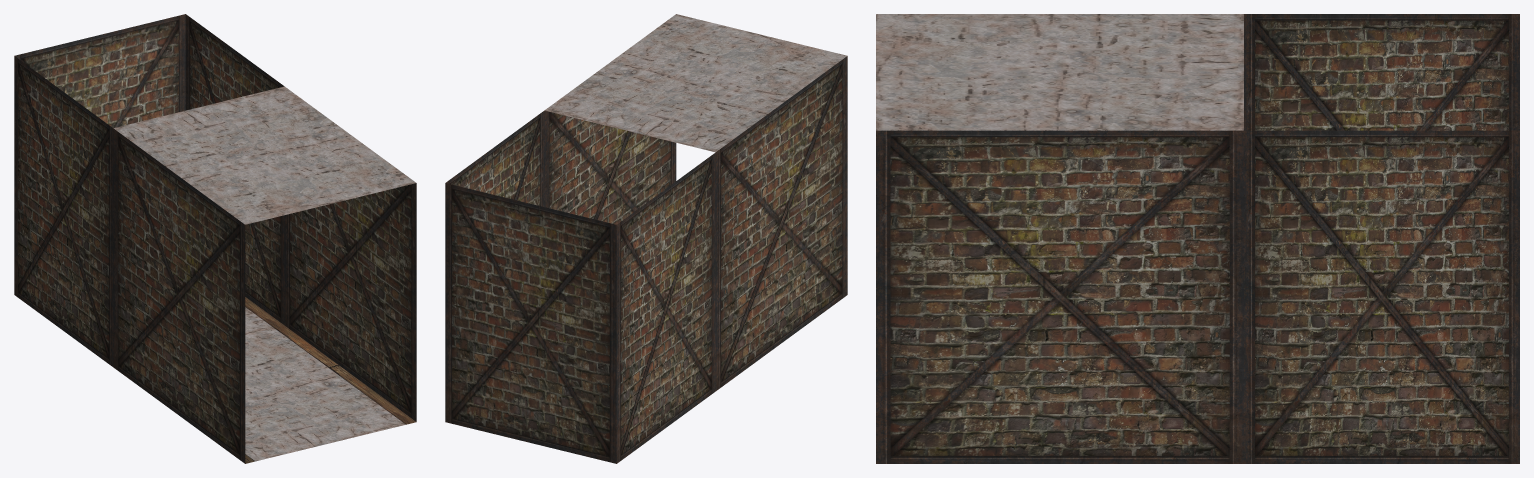
File: Maintaince_turning_vertical_up.FBX
3 renders of one model, left to right at view 1: azimuth 30°, elevation 25°; view 2: azimuth 150°, elevation 25°; view 3: azimuth 270°, elevation 25°, orthographic. The views are drawn at different scales.
Visible parts, largest first — view 1: Maintaince_turning_vertical_up; view 2: Maintaince_turning_vertical_up; view 3: Maintaince_turning_vertical_up.
Part boxes in pixels (x1,y1,x2,y2): Maintaince_turning_vertical_up: [14, 14, 416, 463]; Maintaince_turning_vertical_up: [445, 14, 847, 463]; Maintaince_turning_vertical_up: [876, 14, 1519, 463].
Bounding box in the file's own units: 30 × 70 × 40.
